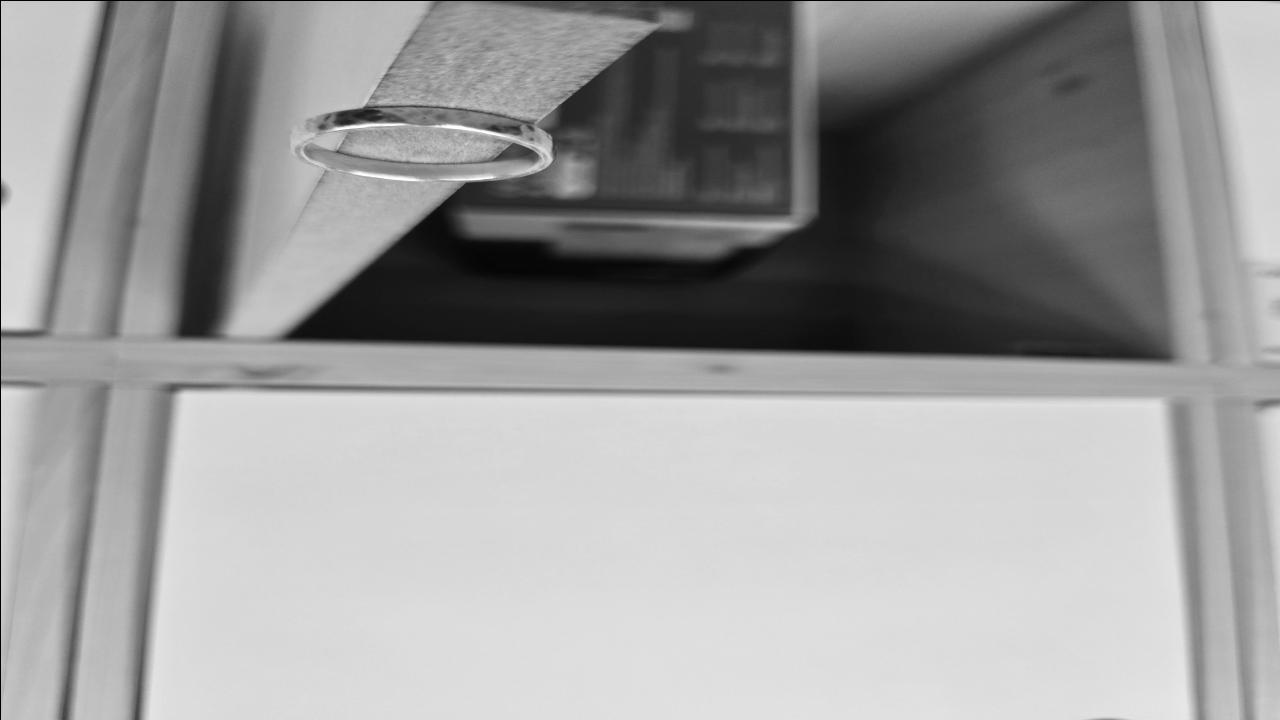ring: (290, 103, 556, 181)
